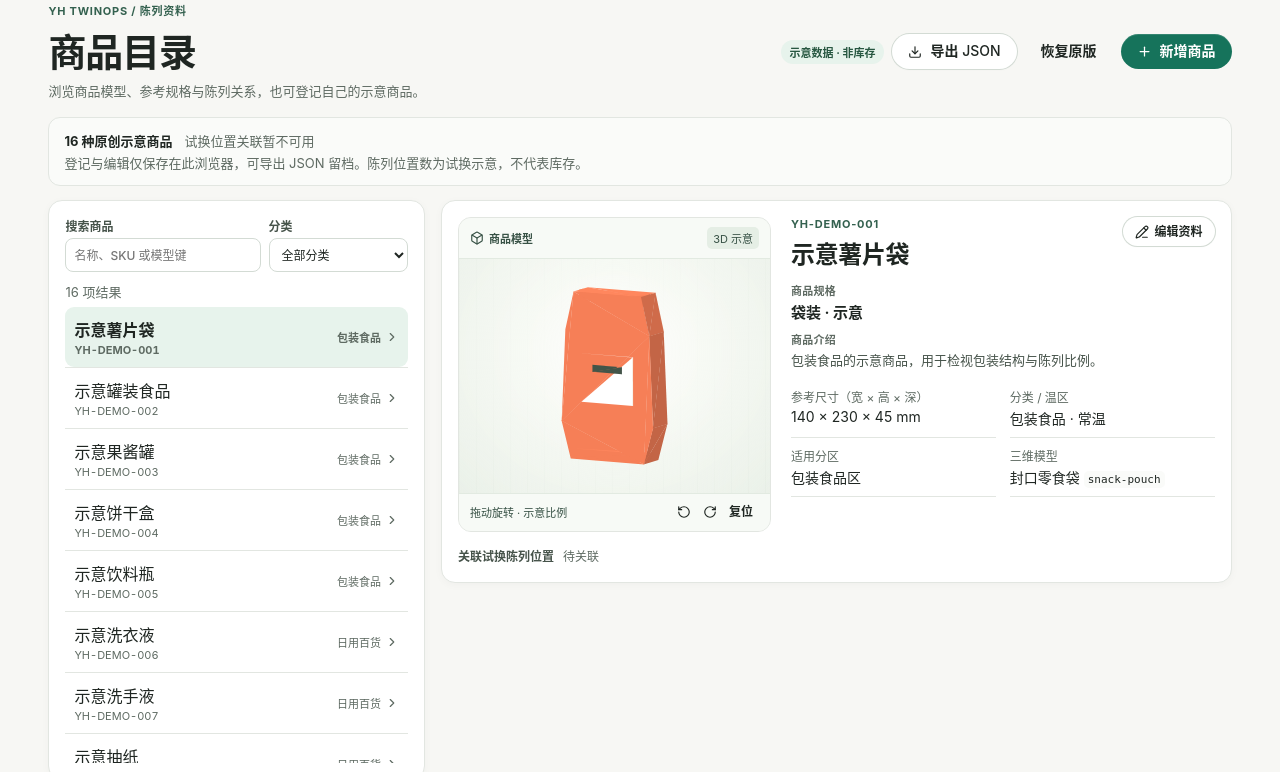
it: saves editable data across remount, leaves geometry alone, and restores after confirmation
Later steps or results of the test are not shown.
Click the button "编辑资料" at (1169,232), box [1123,217,1215,246]
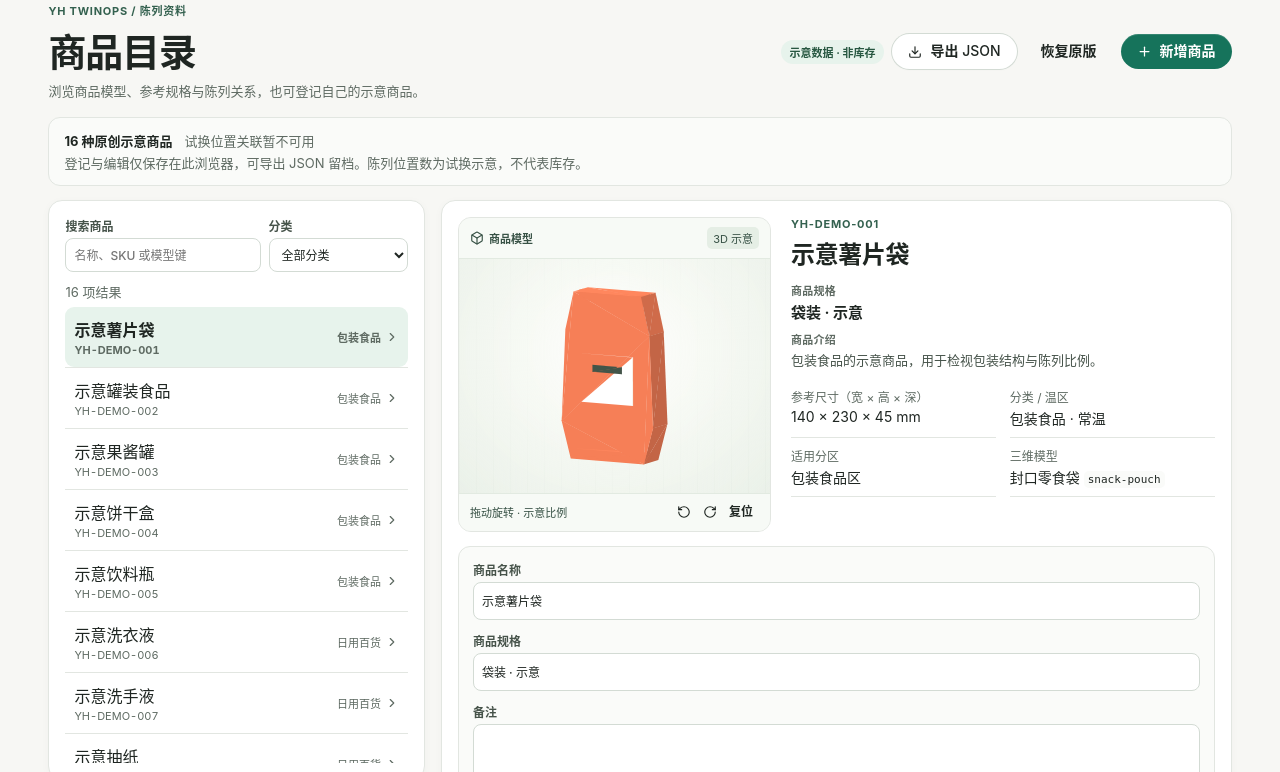
Replace the text in the field labelled "商品名称" with "试换薯片" at (836,601), box [473,582,1200,620]
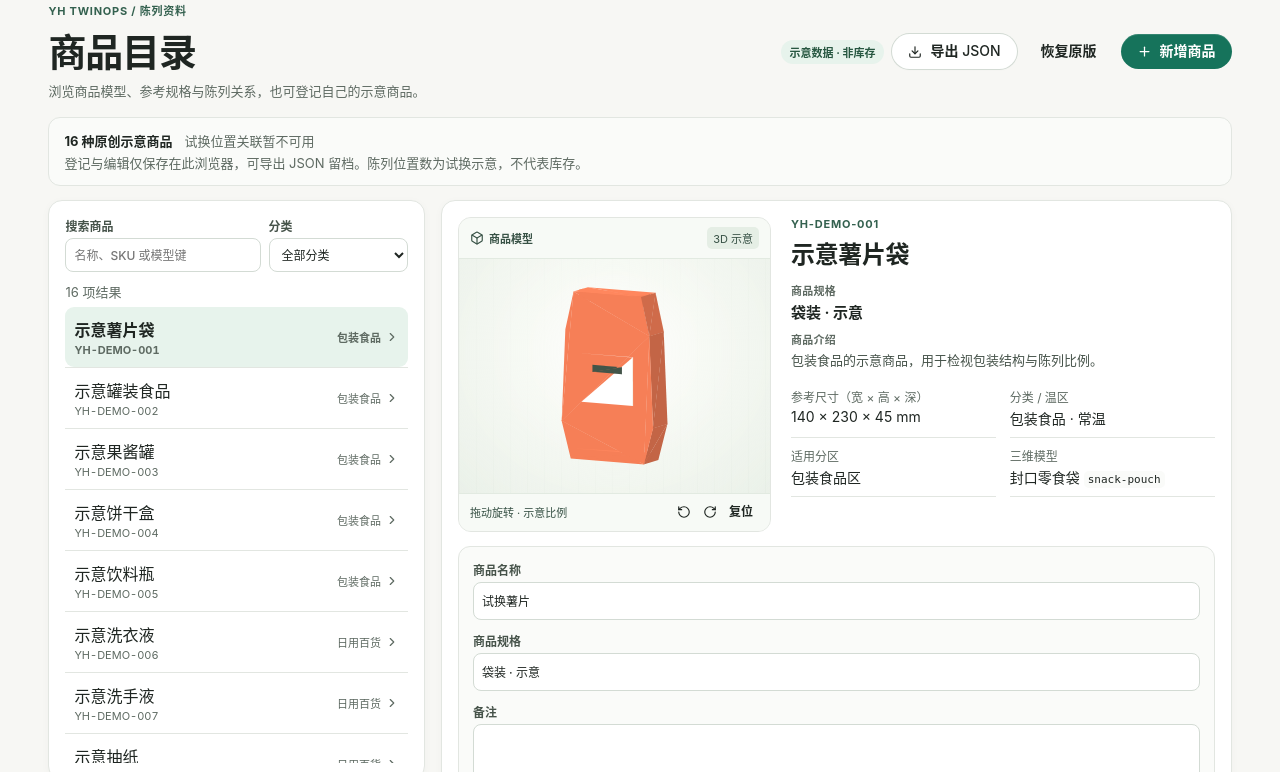
Replace the text in the field labelled "商品规格" with "新规格" at (836,672), box [473,653,1200,691]
(page scrolled)
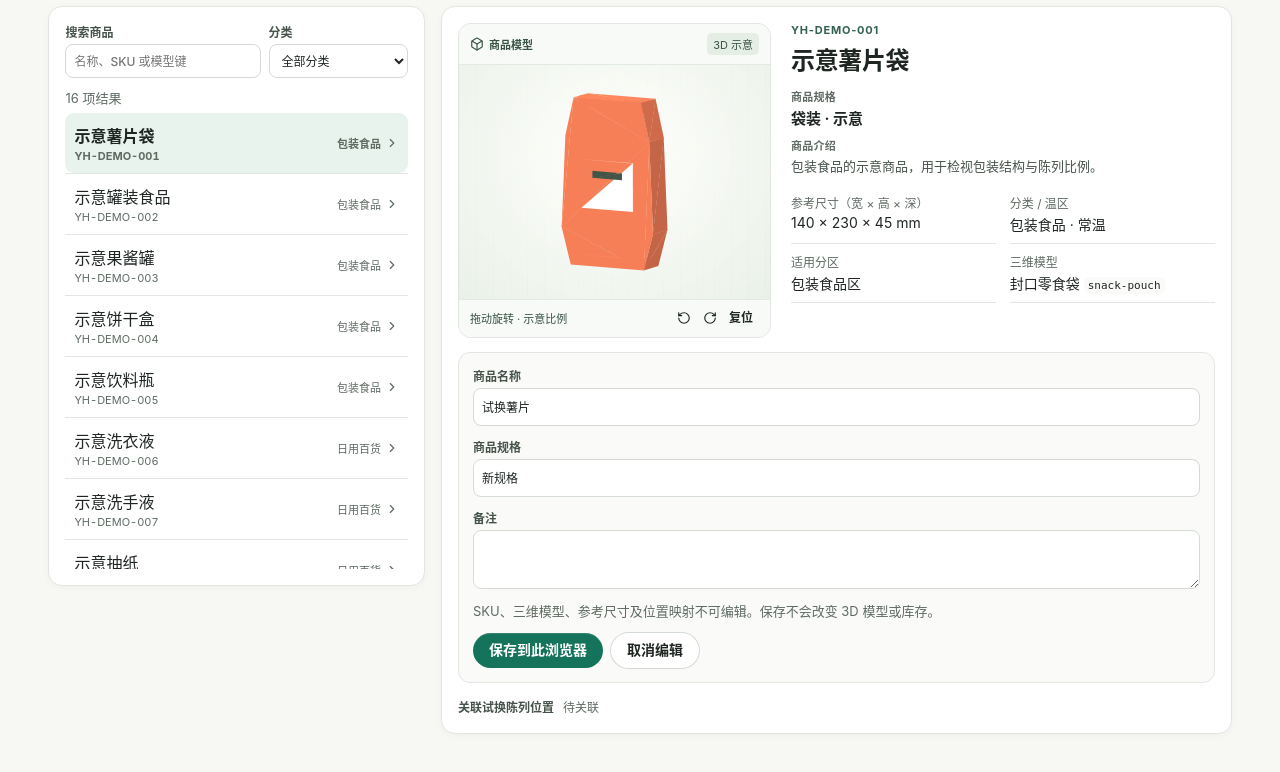
Type "自定义说明" into the text box labelled "备注" at (836,559), box [473,530,1200,589]
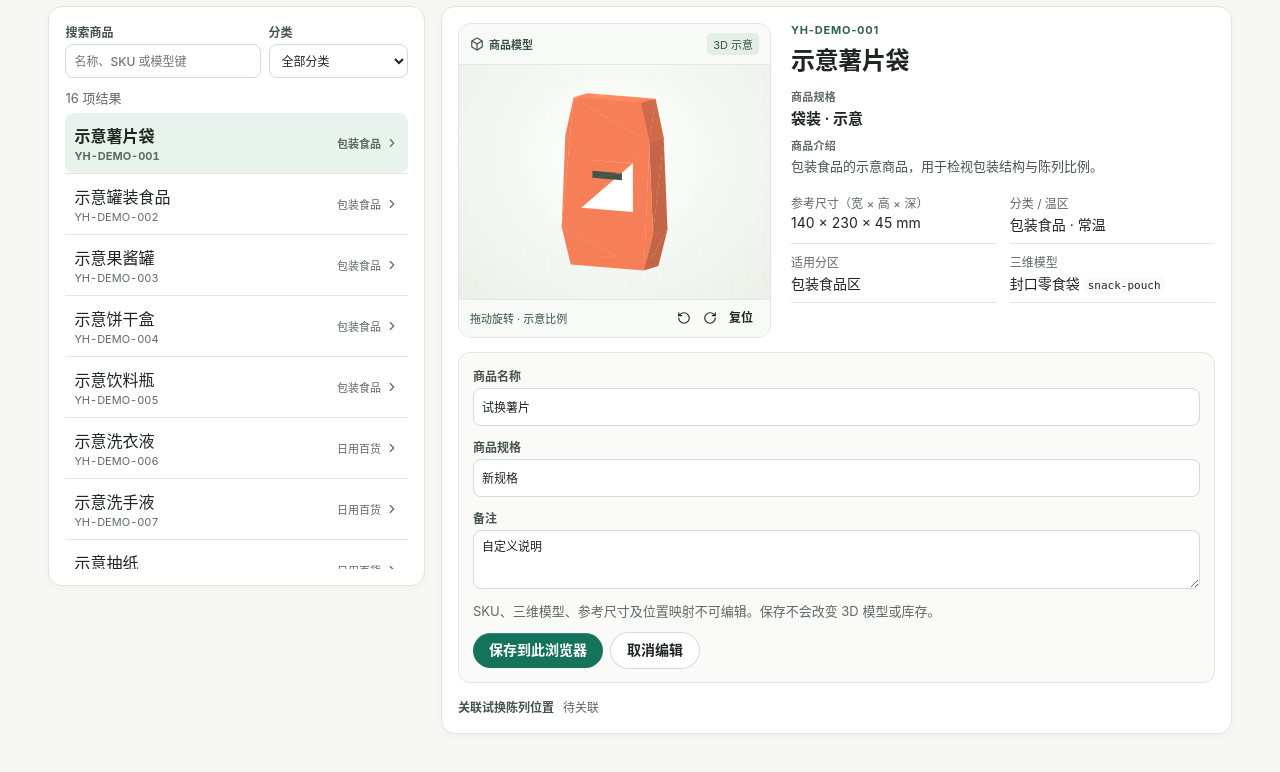
Click the button "保存到此浏览器" at (538,650), box [473,633,603,668]
(page scrolled)
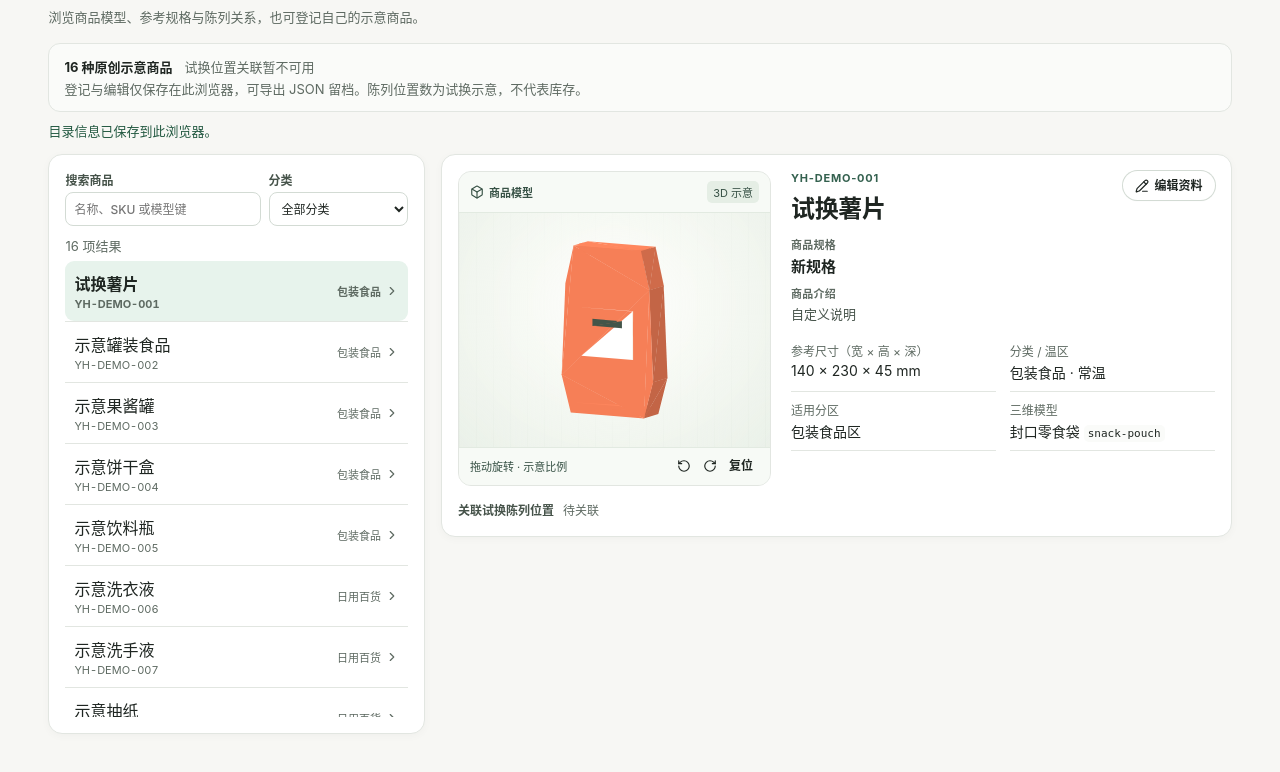
Result: the message shows "已保存" at [48,123,217,139]
